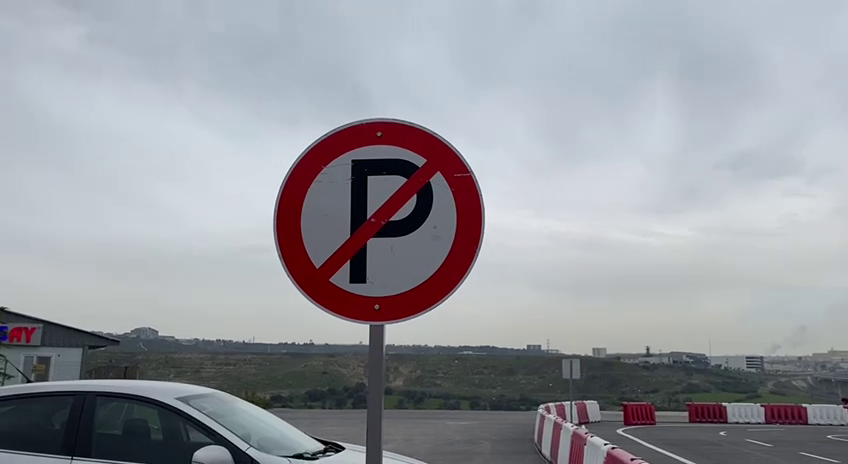noparking: (268, 107, 489, 328)
